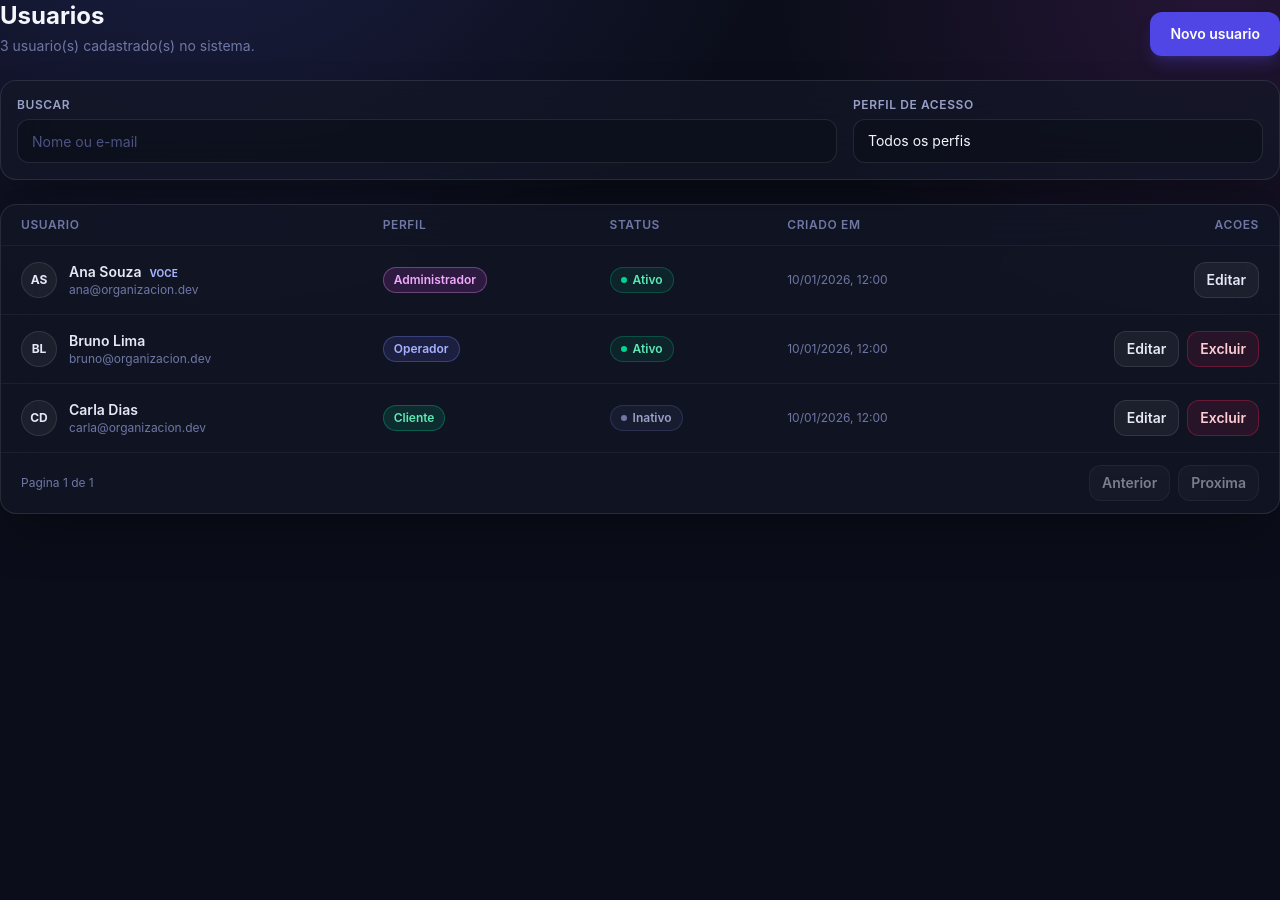
<Users /> › exibe a mensagem de erro da API ao falhar a exclusao
expect the text "Carla Dias" is shown: met, box [69,401,138,418]
Click the button "Excluir" in the row of "CD": coordinates (1223, 418) [1187,400,1259,436]
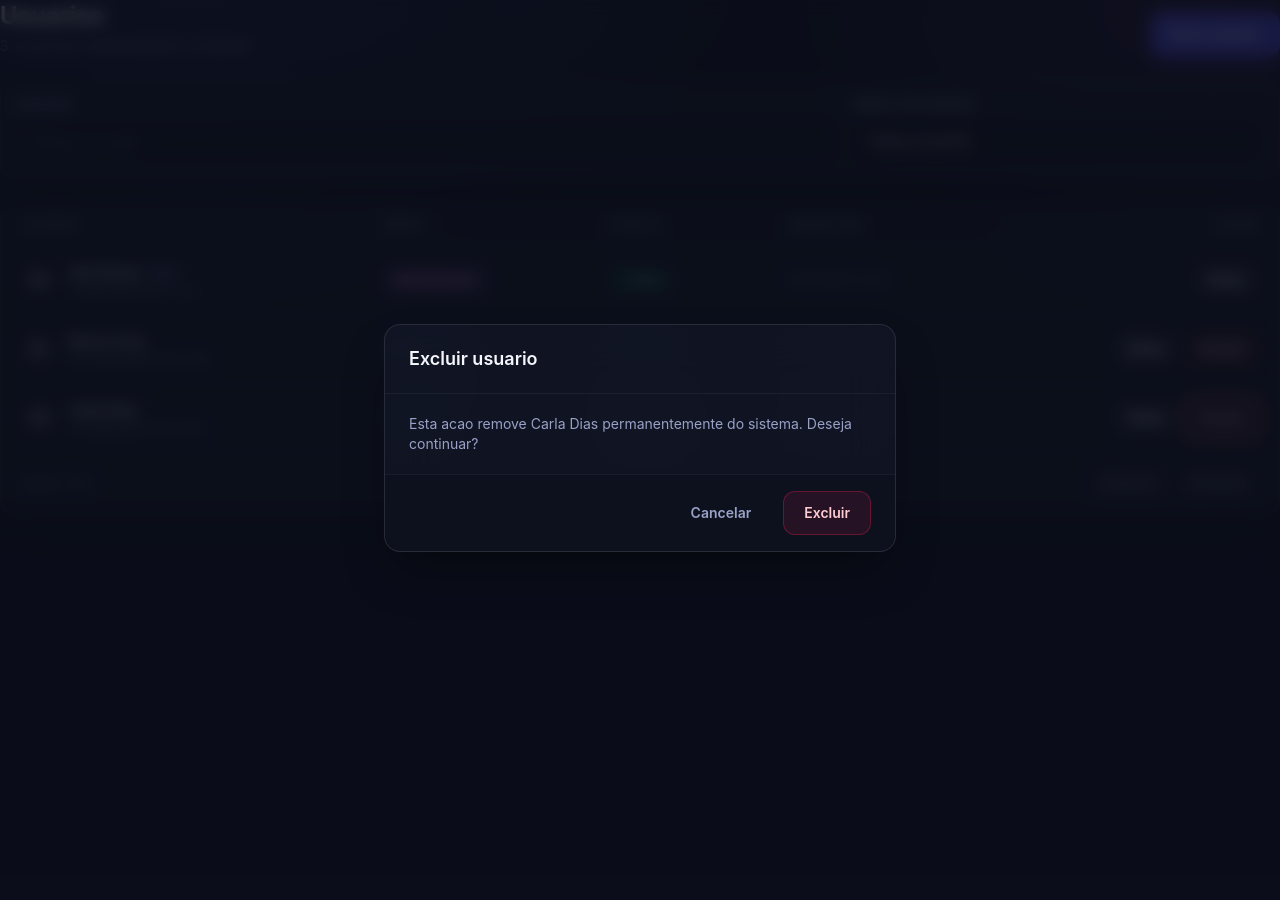
Click the button "Excluir": coordinates (827, 513) [783,491,871,535]
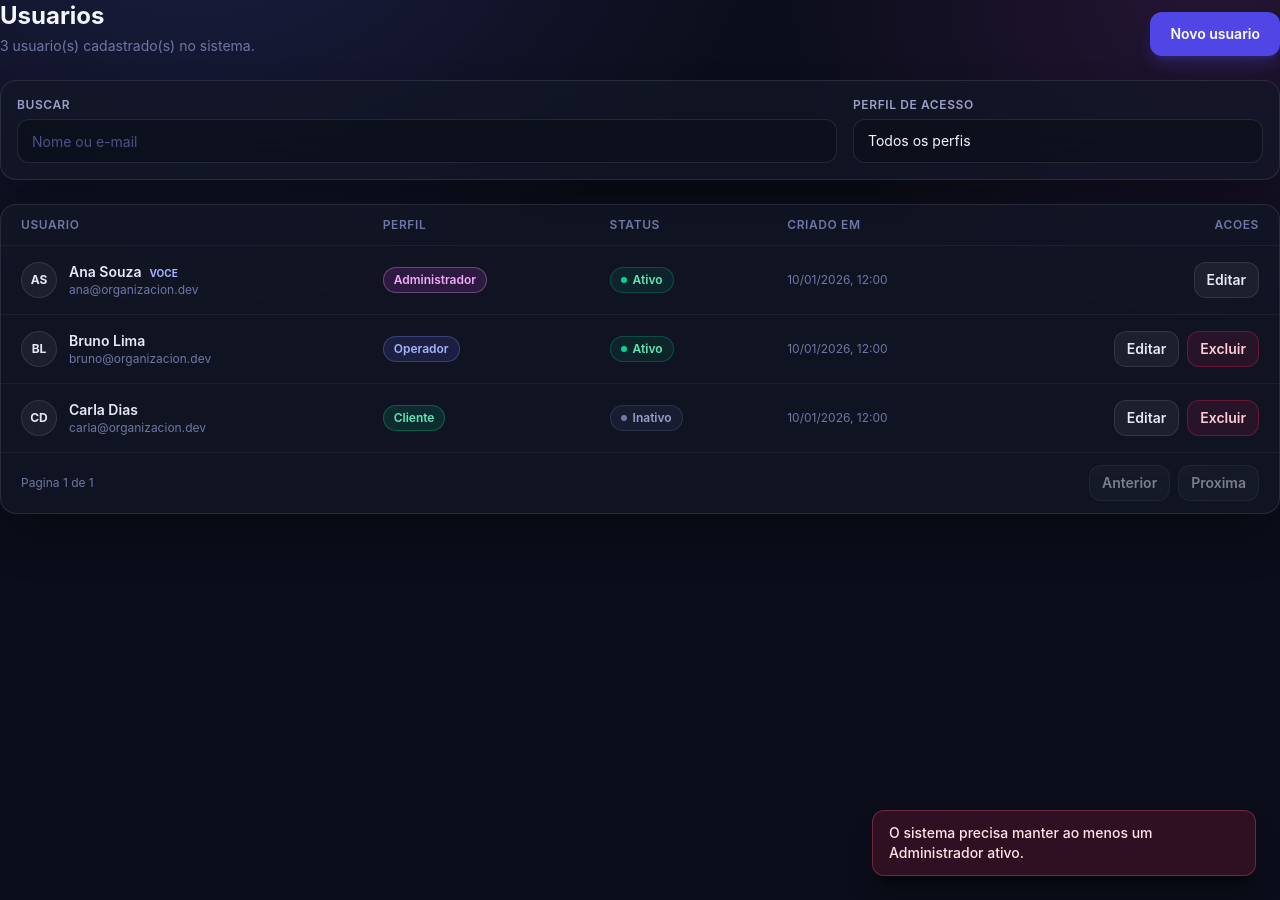
expect the button "O sistema precisa manter ao menos um Administrador ativo." is shown: met, box [872,810,1256,876]
